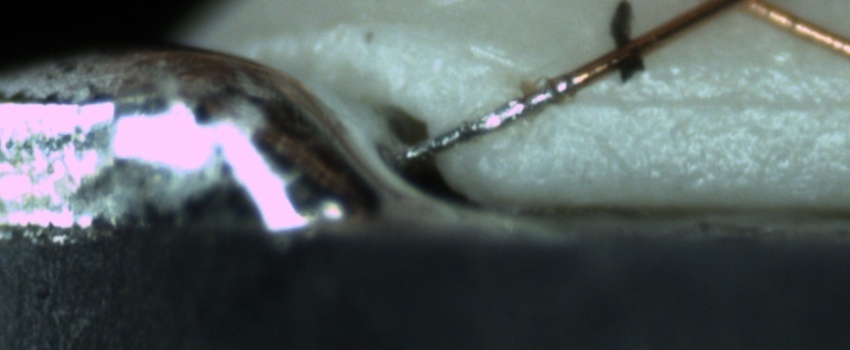CL: (698, 0, 791, 19)
DL: (563, 72, 849, 135)
TS: (402, 73, 579, 164)
TTCW: (400, 30, 644, 163)
